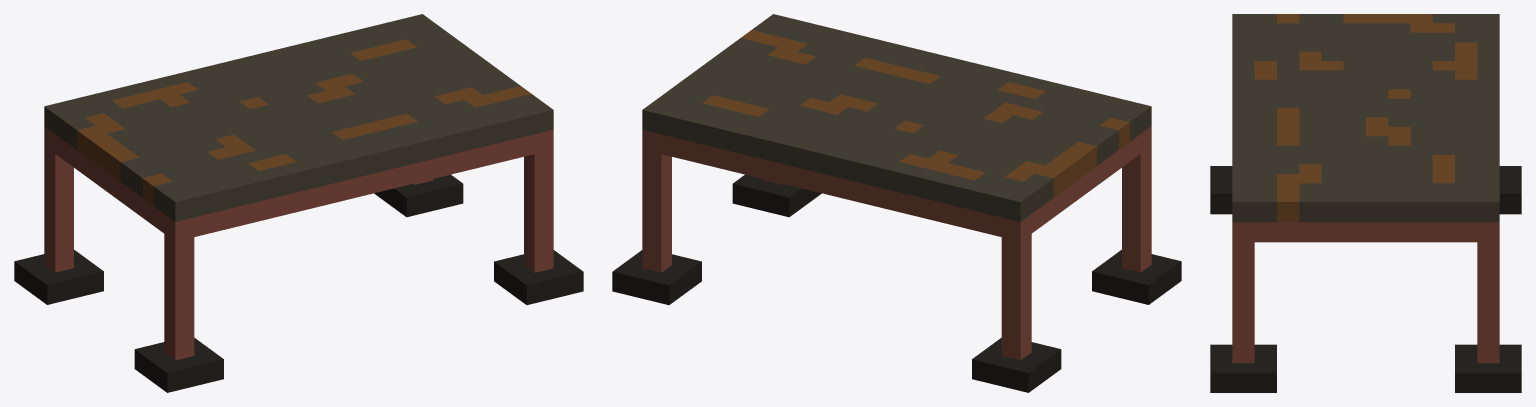
File: Medieval Assets-24-Decoration - Table - Plain Dark.obj
3 renders of one model, left to right at view 1: azimuth 30°, elevation 25°; view 2: azimuth 150°, elevation 25°; view 3: azimuth 270°, elevation 25°, orthographic.
Parts seen in each view (by area): view 1: Decoration - Table - Plain Dark; view 2: Decoration - Table - Plain Dark; view 3: Decoration - Table - Plain Dark.
Part boxes in pixels (left/top/right/bottom): Decoration - Table - Plain Dark: left=14, top=14, right=583, bottom=392; Decoration - Table - Plain Dark: left=612, top=14, right=1181, bottom=392; Decoration - Table - Plain Dark: left=1210, top=14, right=1521, bottom=392.
Bounding box in the file's own units: 2.2 × 0.9 × 1.4.
1 material, 1 textured.
